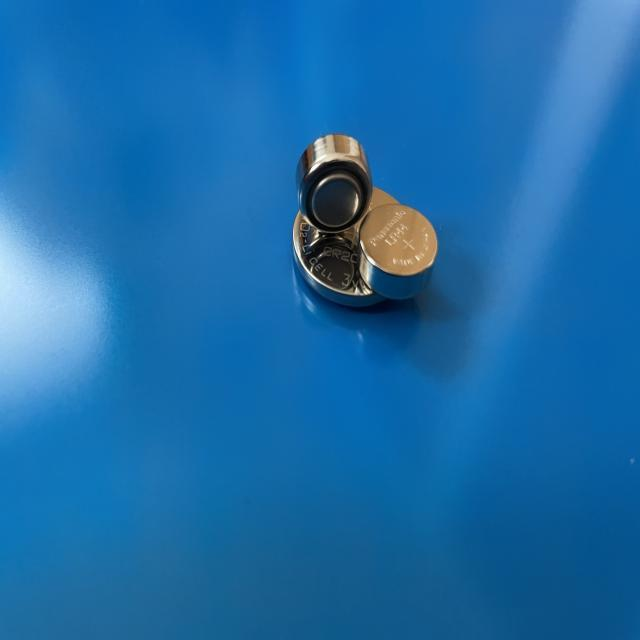COIN: (291, 185, 411, 314), (293, 131, 374, 233), (358, 204, 441, 298)
